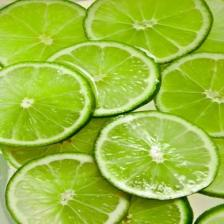green: (94, 111, 219, 200), (6, 153, 129, 224), (47, 41, 159, 117), (84, 0, 213, 64), (1, 62, 94, 147), (155, 52, 224, 138), (1, 0, 87, 66), (121, 197, 193, 224)
